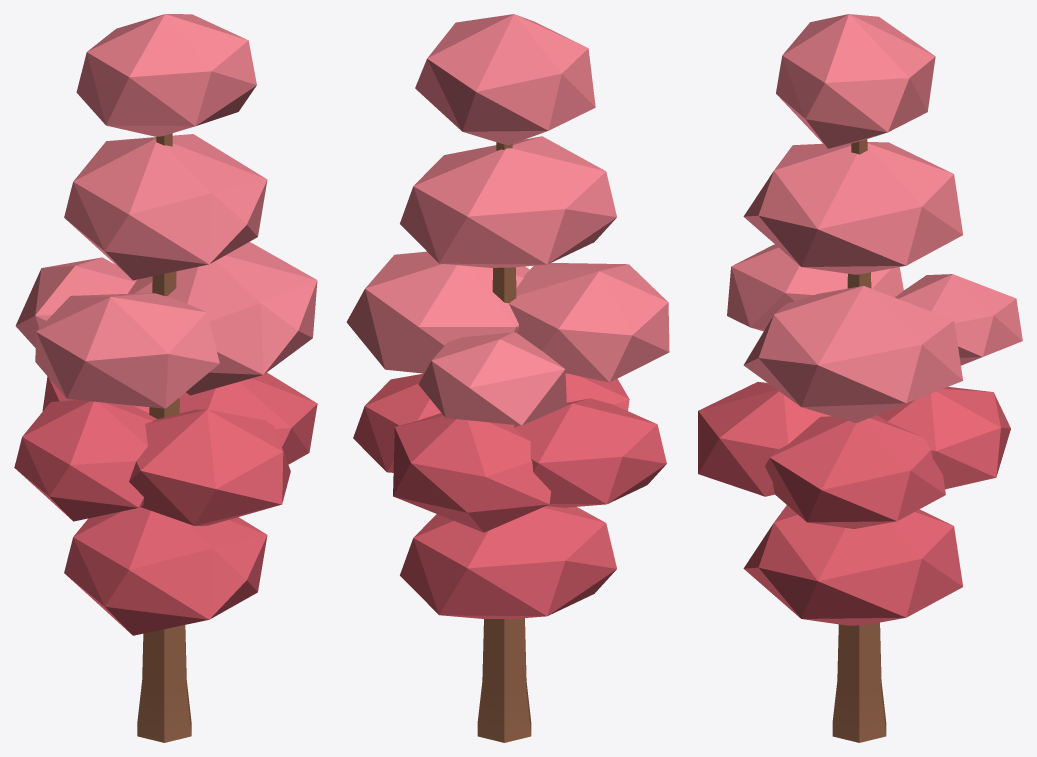
The model's file is tree_2.fbx.
3 renders of one model, left to right at view 1: azimuth 30°, elevation 25°; view 2: azimuth 150°, elevation 25°; view 3: azimuth 270°, elevation 25°, orthographic.
Parts seen in each view (by area): view 1: tree_2; view 2: tree_2; view 3: tree_2.
Part boxes in pixels (<box>): tree_2: <box>14,14,317,742</box>; tree_2: <box>346,14,669,742</box>; tree_2: <box>698,14,1022,742</box>.
Bounding box in the file's own units: 215 × 536 × 221.
